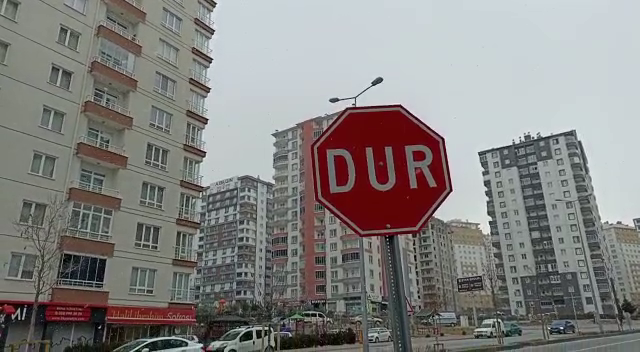stop: (307, 101, 456, 240)
